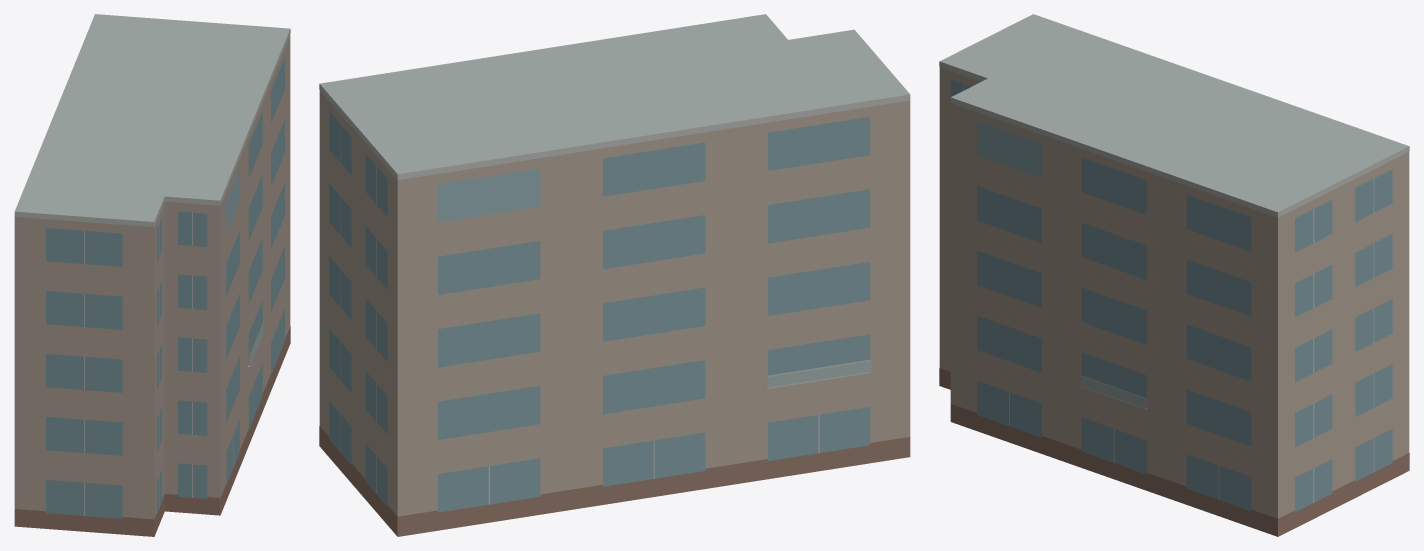
File: survey-upis-32622543.glb
3 views of the same model, side by side, from view 1: azimuth 30°, elevation 25°; view 2: azimuth 150°, elevation 25°; view 3: azimuth 270°, elevation 25° (orthographic). The views are drawn at different scales.
Parts seen in each view (by area): view 1: survey-upis-32622543.tmp; view 2: survey-upis-32622543.tmp; view 3: survey-upis-32622543.tmp.
Boxes of the visible parts, x1,y1,x2,y2 form: survey-upis-32622543.tmp: (14, 14, 290, 536); survey-upis-32622543.tmp: (319, 14, 910, 536); survey-upis-32622543.tmp: (939, 14, 1409, 536).
Bounding box in the file's own units: 19.35 × 14.75 × 19.37.
